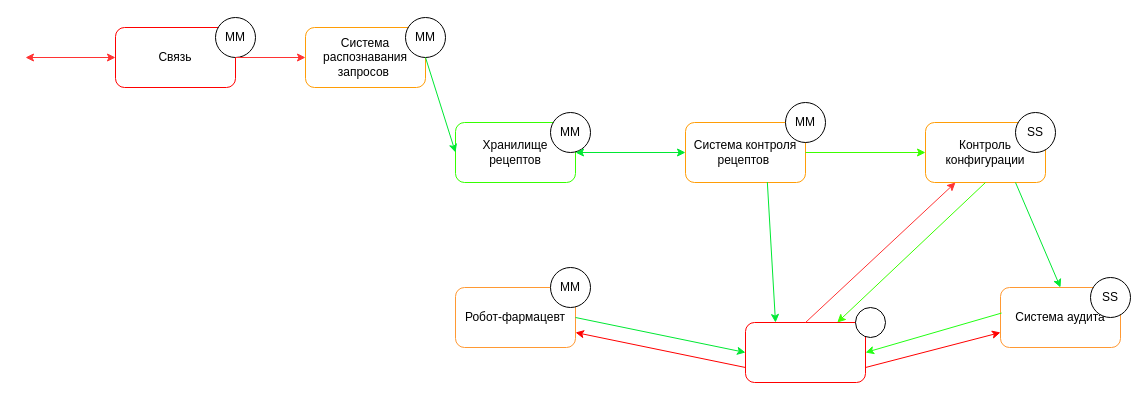
Image size: 1148x400. Some labels were removed from this diagram. Each missing label, with the centre of its shape:
"CM" goes at (x=870, y=322).
"Сиситема управления роботом" goes at (x=805, y=352).
